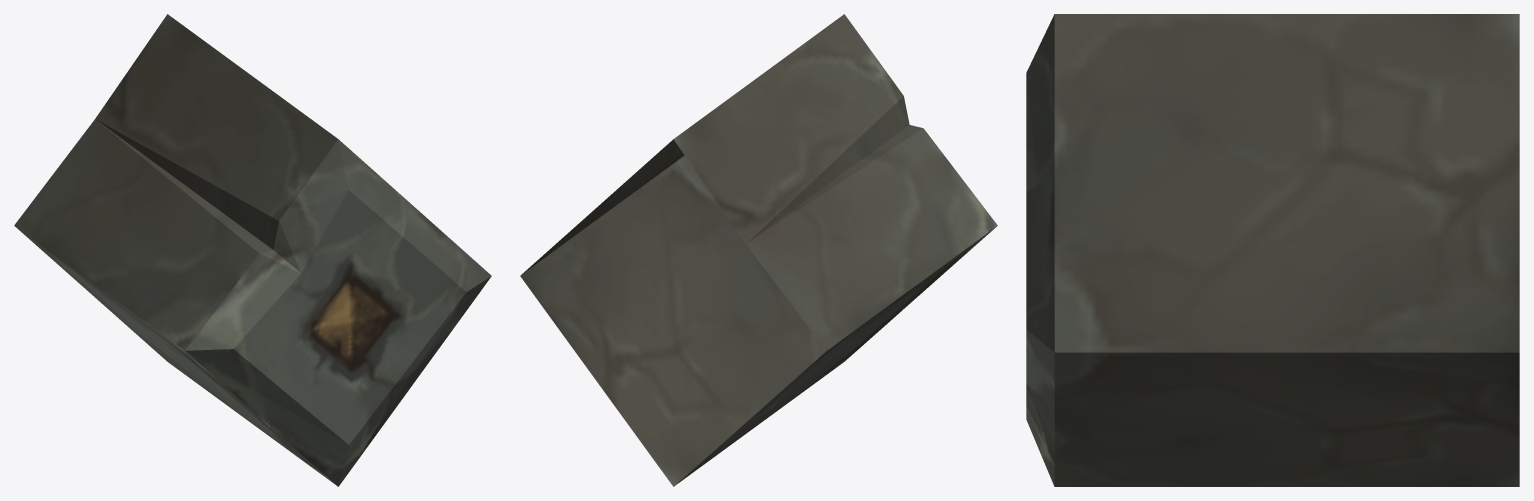
Rendered from yw_shanlin_doortop_21.FBX.
The picture shows the model from 3 angles, left to right: view 1: azimuth 30°, elevation 25°; view 2: azimuth 150°, elevation 25°; view 3: azimuth 270°, elevation 25°; orthographic projection. The views are drawn at different scales.
Parts seen in each view (by area): view 1: yw_shanlin_doortop_21; view 2: yw_shanlin_doortop_21; view 3: yw_shanlin_doortop_21.
Boxes of the visible parts, left/top/right/bottom form: yw_shanlin_doortop_21: left=14, top=14, right=491, bottom=486; yw_shanlin_doortop_21: left=520, top=14, right=997, bottom=486; yw_shanlin_doortop_21: left=1026, top=14, right=1519, bottom=486.
Size of the model in its own units: 58.6 by 63.47 by 59.99.
